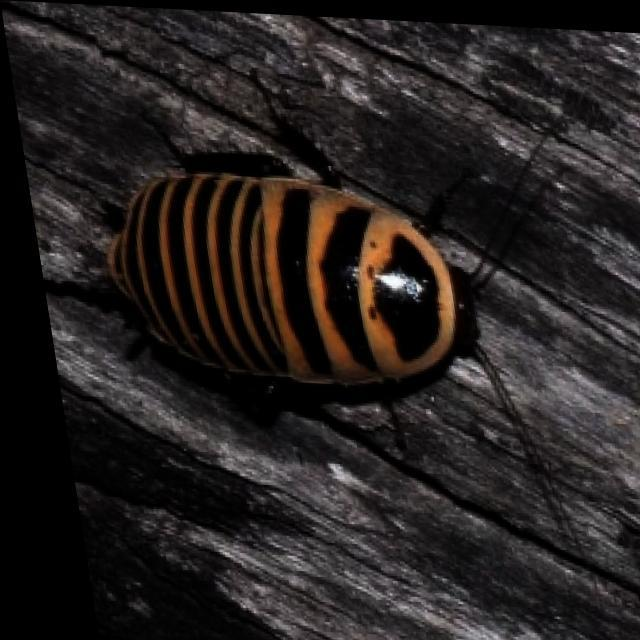cockroach: (105, 169, 467, 393)
